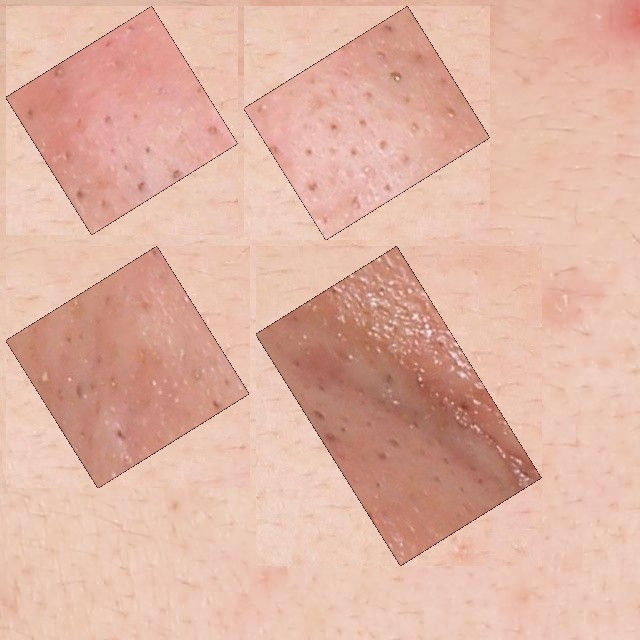hypertrophic_scar: (267, 257, 530, 554), (17, 257, 238, 477), (255, 17, 479, 229), (17, 17, 227, 224)
